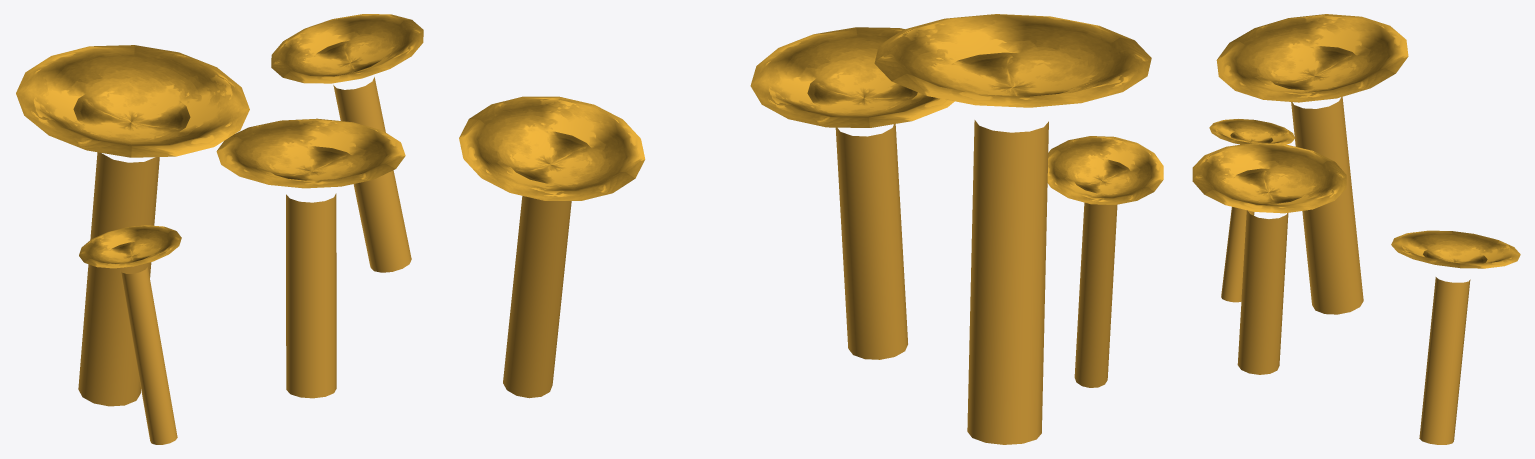
The model's file is chanterelle1.glb.
3 views of the same model, side by side, from view 1: azimuth 30°, elevation 25°; view 2: azimuth 150°, elevation 25°; view 3: azimuth 270°, elevation 25° (orthographic). The views are drawn at different scales.
Parts seen in each view (by area): view 1: chanterelle1_cap_LOD0, chanterelle1_stem_LOD0; view 2: chanterelle1_cap_LOD0, chanterelle1_stem_LOD0; view 3: chanterelle1_cap_LOD0, chanterelle1_stem_LOD0.
Boxes of the visible parts, x1=… form: chanterelle1_cap_LOD0: x1=16, y1=14, x2=423, y2=268; chanterelle1_stem_LOD0: x1=78, y1=77, x2=411, y2=444; chanterelle1_cap_LOD0: x1=459, y1=14, x2=1163, y2=204; chanterelle1_stem_LOD0: x1=503, y1=120, x2=1117, y2=444; chanterelle1_cap_LOD0: x1=1192, y1=14, x2=1520, y2=268; chanterelle1_stem_LOD0: x1=1221, y1=97, x2=1470, y2=444.
Size of what is drawn, in the model's own units: 0.2128 by 0.1356 by 0.1547.
Materials: 3 (1 with a texture image).
